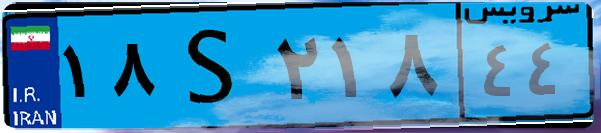1: (330, 28, 385, 110), (57, 26, 110, 100)
2: (270, 28, 330, 110)
4: (475, 38, 525, 113), (525, 38, 570, 115)
8: (385, 28, 445, 110), (110, 28, 158, 98)
S: (158, 12, 270, 120)
